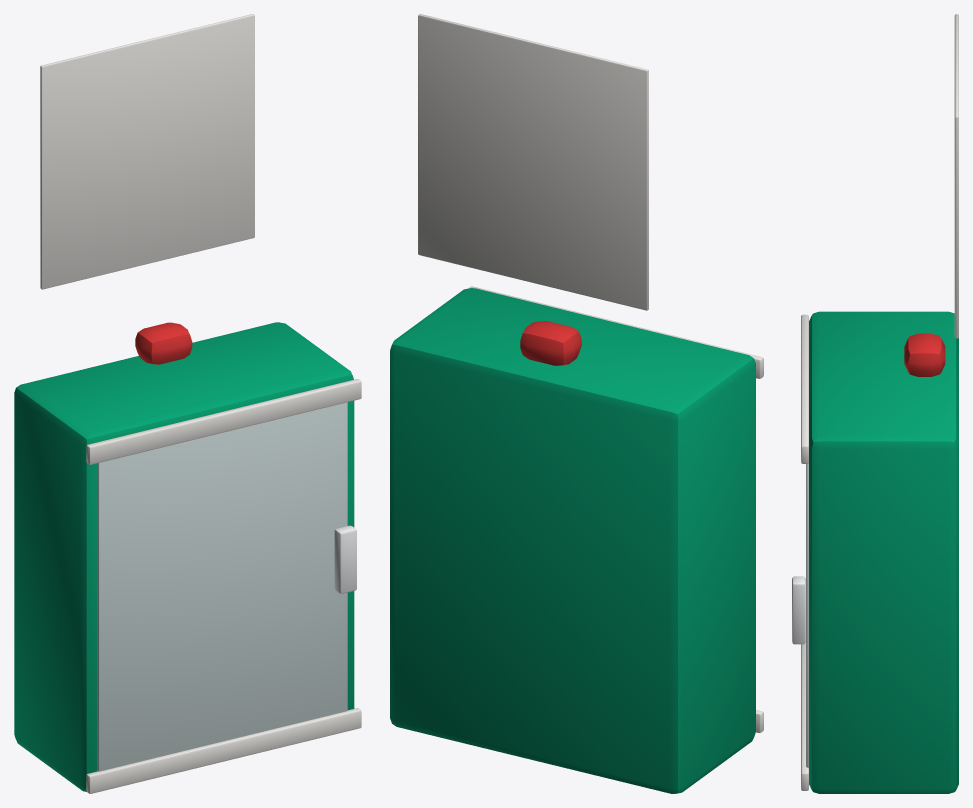
The model's file is teca-dae.glb.
3 views of the same model, side by side, from view 1: azimuth 30°, elevation 25°; view 2: azimuth 150°, elevation 25°; view 3: azimuth 270°, elevation 25° (orthographic). The views are drawn at different scales.
Visible parts, largest first — view 1: teca_dae, teca_cartello; view 2: teca_dae, teca_cartello; view 3: teca_dae, teca_cartello.
Boxes of the visible parts, bbox=[...] form: teca_dae: bbox=[14, 322, 361, 793]; teca_cartello: bbox=[40, 14, 254, 289]; teca_dae: bbox=[390, 286, 763, 793]; teca_cartello: bbox=[418, 14, 648, 310]; teca_dae: bbox=[792, 311, 958, 793]; teca_cartello: bbox=[954, 14, 958, 338].
Bounding box in the file's own units: 0.46 × 1.08 × 0.245.
